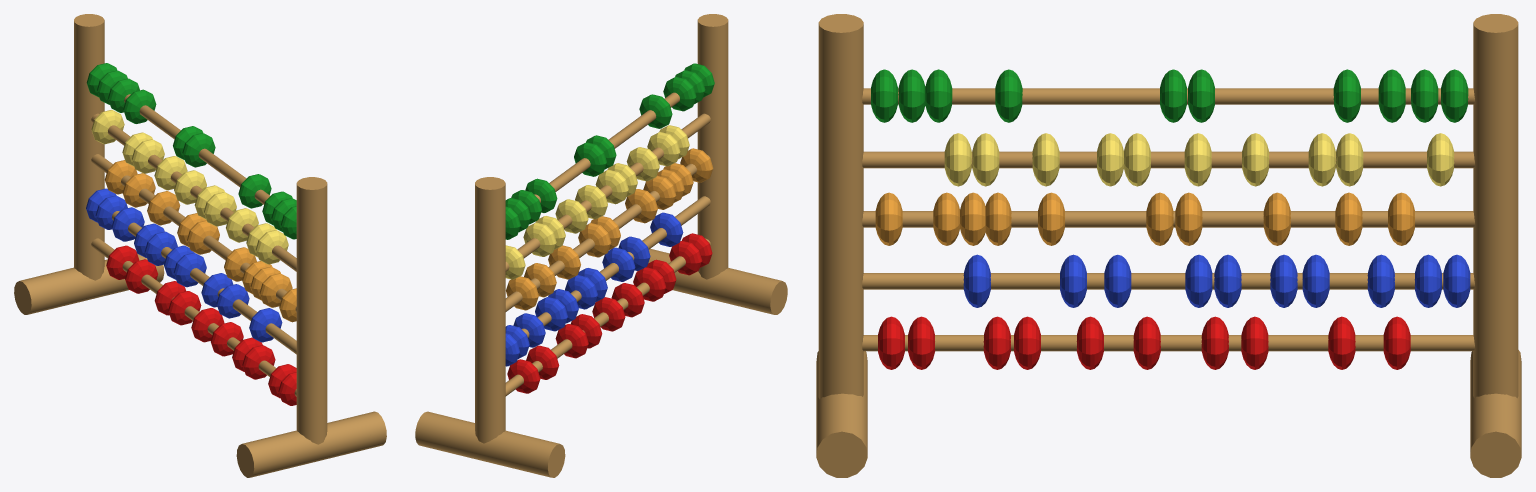
File: Abacus.fbx
3 views of the same model, side by side, from view 1: azimuth 30°, elevation 25°; view 2: azimuth 150°, elevation 25°; view 3: azimuth 270°, elevation 25° (orthographic). The views are drawn at different scales.
Parts seen in each view (by area): view 1: pSphere51; view 2: pSphere51; view 3: pSphere51.
Part boxes in pixels (bbox=[...]): pSphere51: bbox=[14, 14, 386, 477]; pSphere51: bbox=[415, 14, 787, 477]; pSphere51: bbox=[816, 14, 1521, 477].
Bounding box in the file's own units: 3.03 × 6.06 × 9.51.
Materials: 1 (1 with a texture image).
